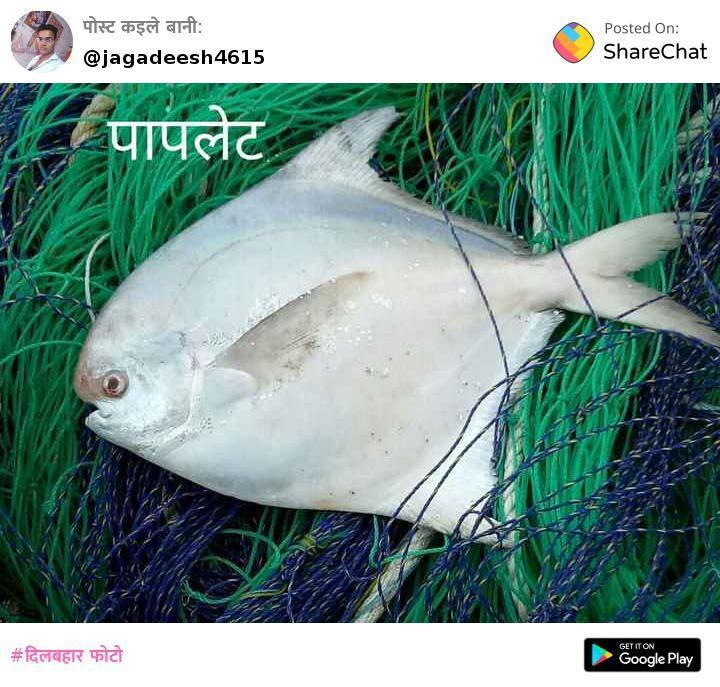Pomfret: (71, 104, 715, 550)
